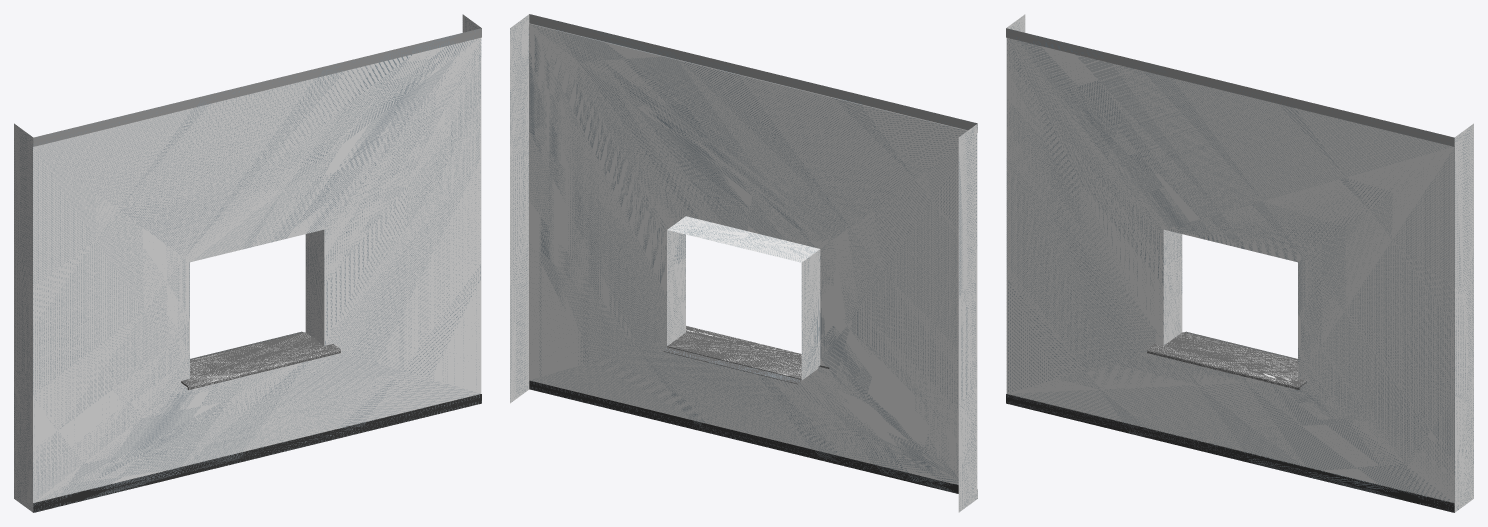
Rendered from WindowBlock_os_plinth_[500x400]_150x124x[100].dae.
The picture shows the model from 3 angles, left to right: view 1: azimuth 30°, elevation 25°; view 2: azimuth 150°, elevation 25°; view 3: azimuth 330°, elevation 25°; orthographic projection.
Visible parts, largest first — view 1: group_2 (×4), group_1; view 2: group_2 (×4), group_1 (×2); view 3: group_2 (×4), group_1.
Boxes of the visible parts, x1,y1,x2,y2 form: group_2 (×4): (14, 14, 481, 512); group_1: (181, 332, 340, 389); group_2 (×4): (510, 14, 977, 512); group_1 (×2): (663, 326, 829, 384); group_2 (×4): (1006, 14, 1473, 512); group_1: (1147, 332, 1306, 389).
Size of the model in its own units: 197 by 23.03 by 157.
